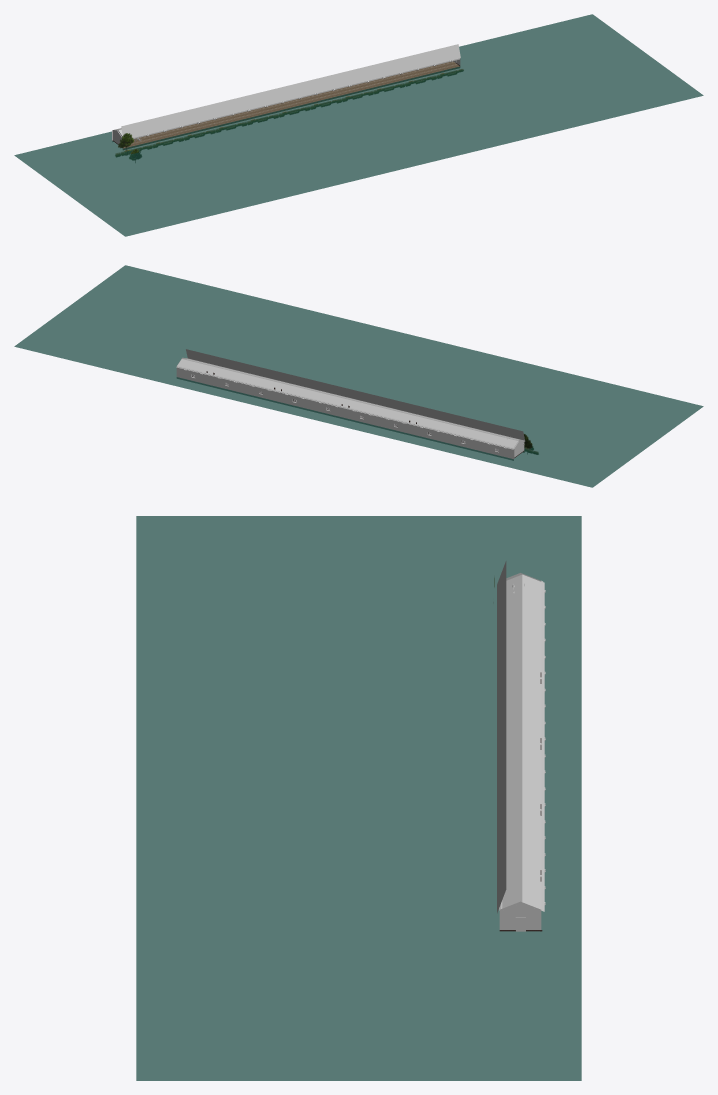
The model's file is Plataforma_nivel_1.gltf.
The picture shows the model from 3 angles, top to bottom: view 1: azimuth 30°, elevation 25°; view 2: azimuth 150°, elevation 25°; view 3: azimuth 270°, elevation 25°; orthographic projection. The views are drawn at different scales.
Parts seen in each view (by area): view 1: Agua, Estructura_Casa002, suelo, Estructura_Casa, plantas; view 2: Agua, Estructura_Casa, Estructura_Casa002; view 3: Agua, Estructura_Casa, Estructura_Casa002.
Part boxes in pixels (x1,y1,x2,y2): Agua: (14,14,703,236); Estructura_Casa002: (121,44,460,137); suelo: (123,61,459,148); Estructura_Casa: (112,58,460,149); plantas: (115,69,463,156); Agua: (14,265,703,487); Estructura_Casa: (176,357,524,460); Estructura_Casa002: (186,349,525,441); Agua: (136,516,581,1080); Estructura_Casa: (499,573,545,931); Estructura_Casa002: (497,561,506,913).
Bounding box in the file's own units: 300 × 15.5 × 100.
